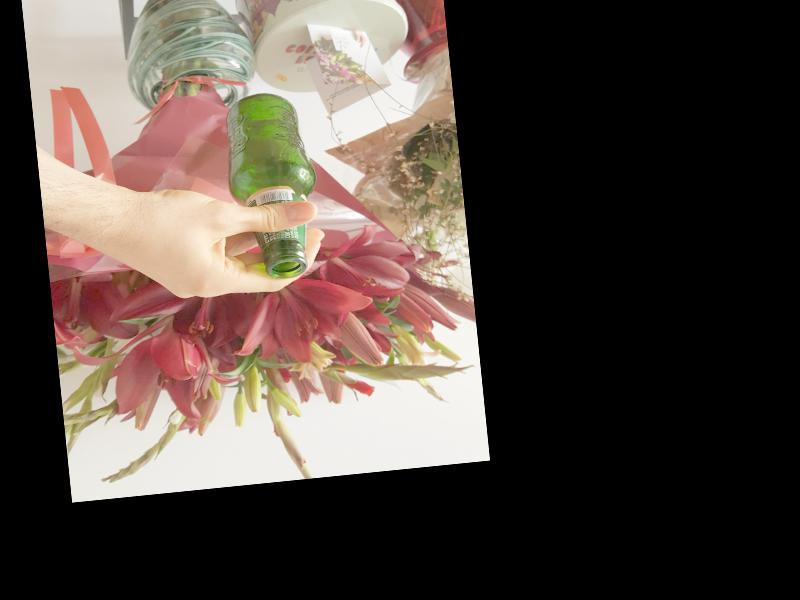Beer: (223, 88, 325, 281)
